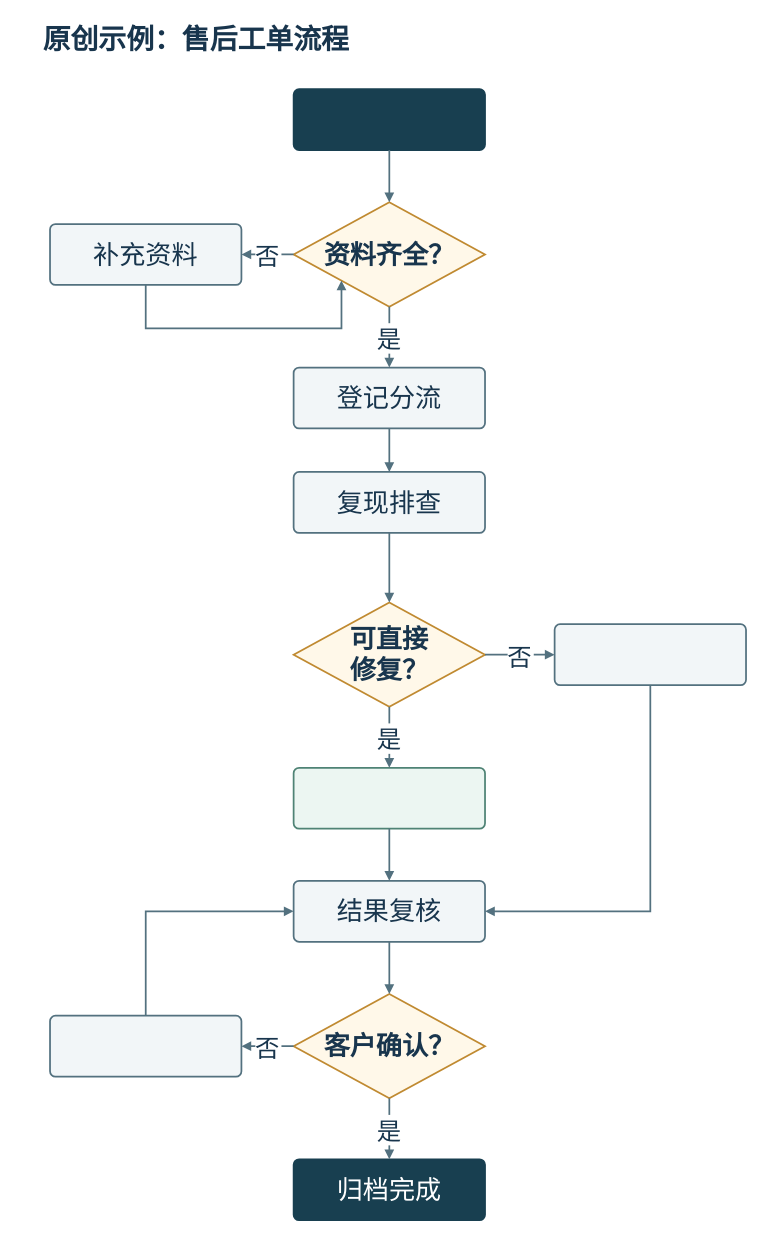
Image size: 761x1235. Some labels were removed from this diagram. The centre of each missing label's shape, as x and y in pixels:
修复处理: (388,797)
升级处理: (649,654)
提交工单: (388,119)
补充反馈: (145,1045)
